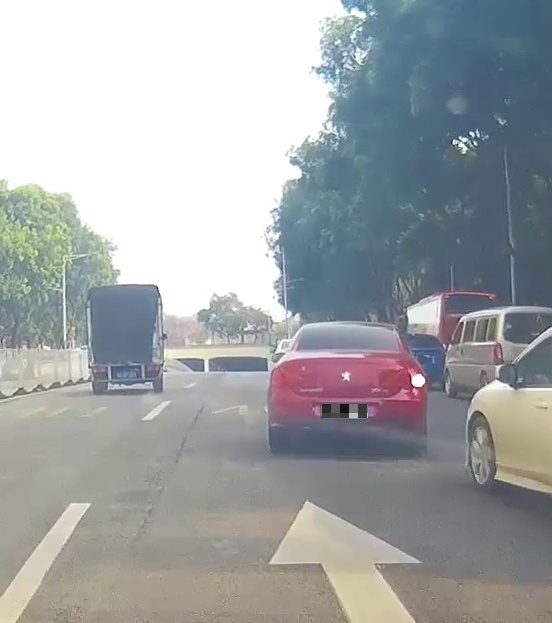L_light: (271, 374, 286, 387), (93, 367, 105, 372)
R_light: (410, 373, 426, 387), (146, 364, 158, 370)
T_light: (340, 325, 359, 328), (117, 288, 128, 290)
day-no: (87, 284, 164, 394)
day-right: (267, 322, 427, 455)
plate_1: (322, 404, 368, 418)
